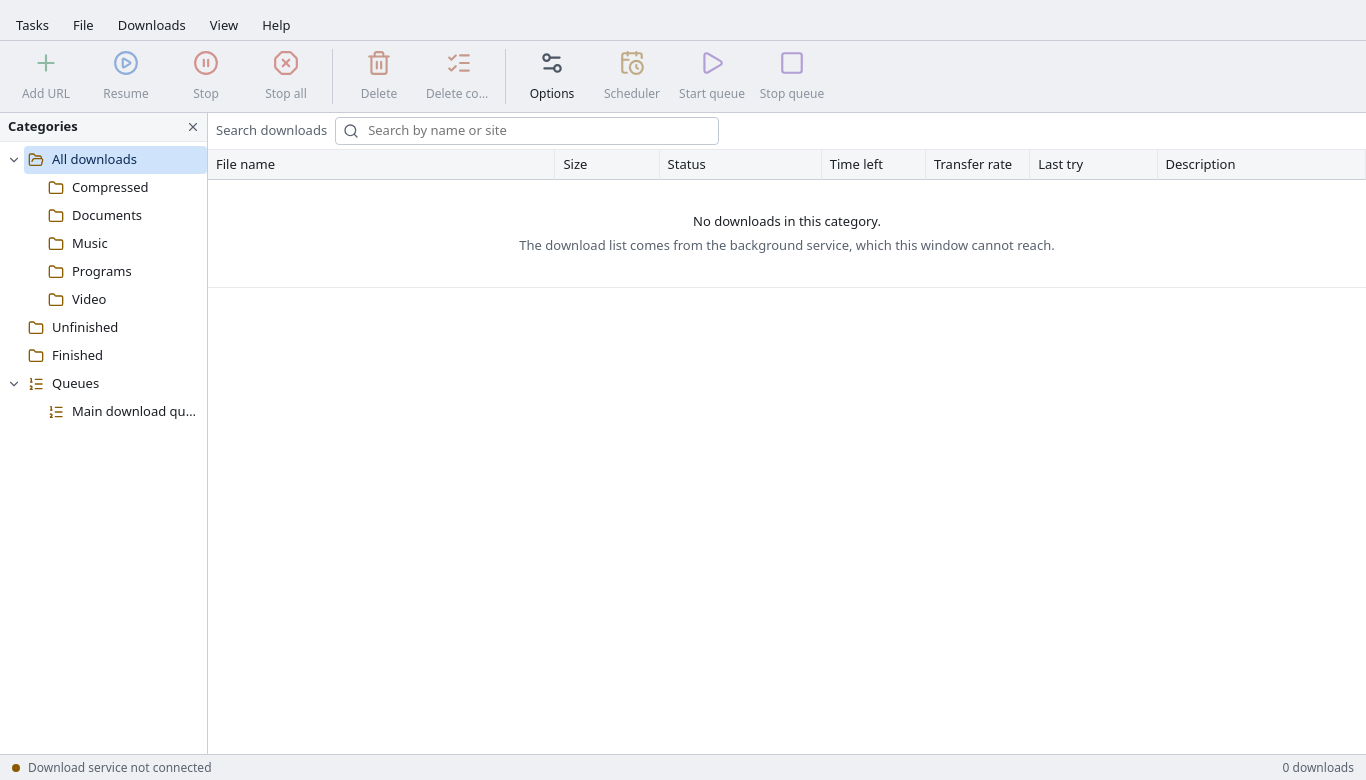
Test: classic download-manager window › hides the category panel from the View menu
Click the menu item "View": [224, 26] box [198,12,250,40]
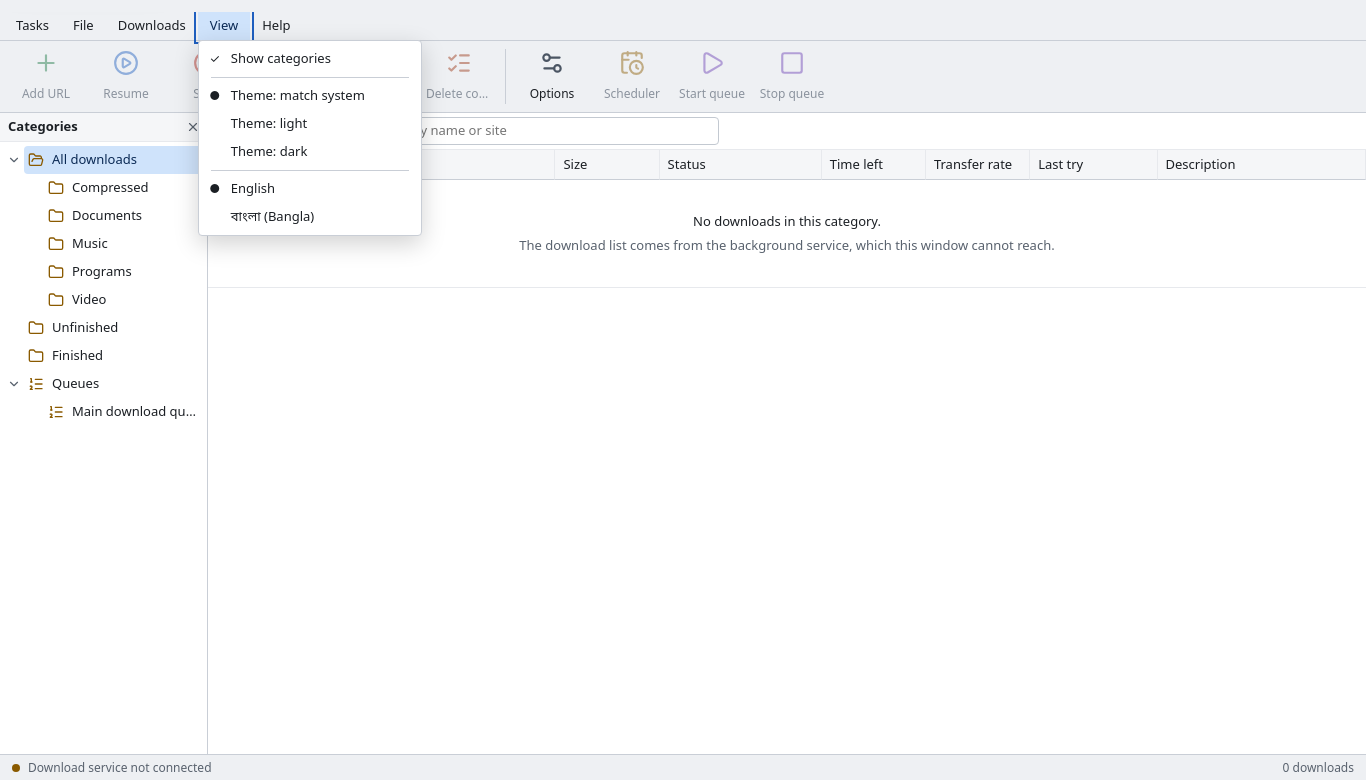
Click the menu item "✓ Show categories": [310, 59] box [203,45,417,73]
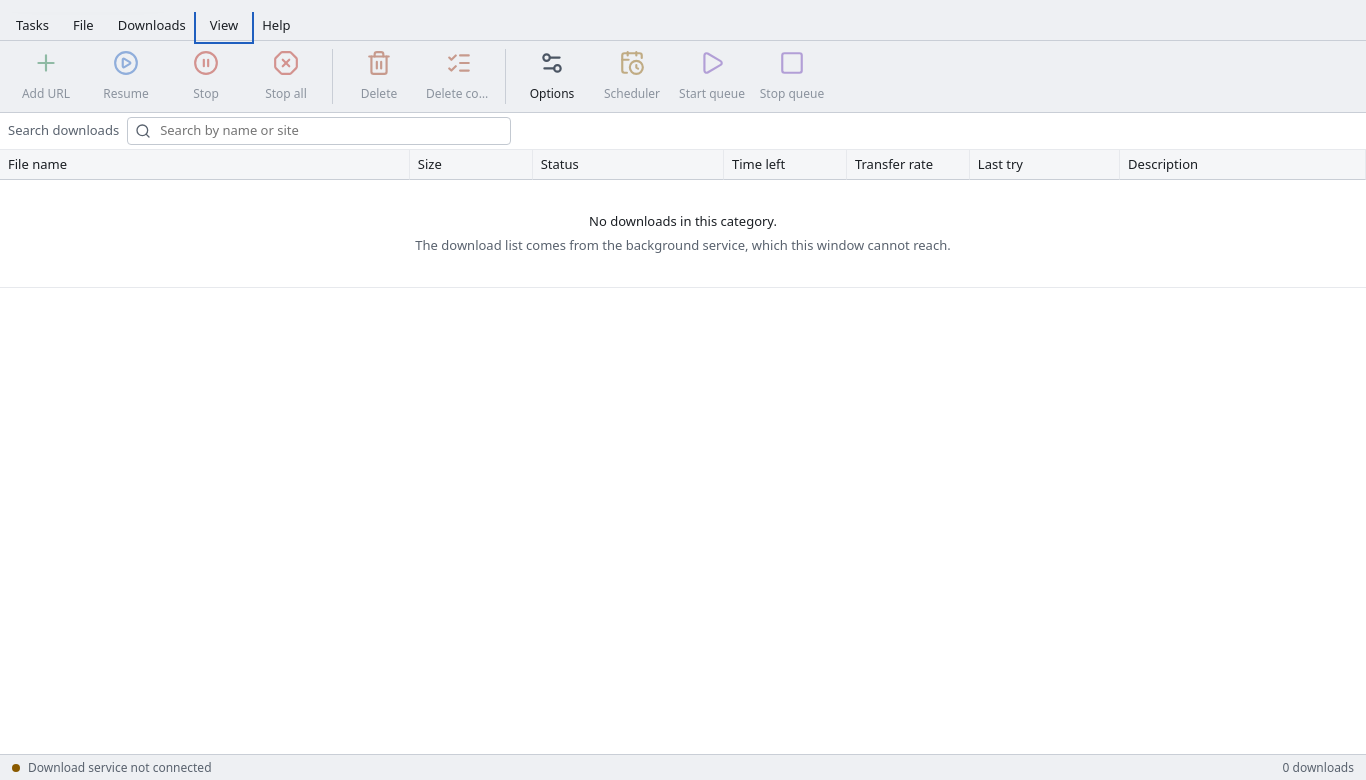
Expected: the menu item "categories" is gone
